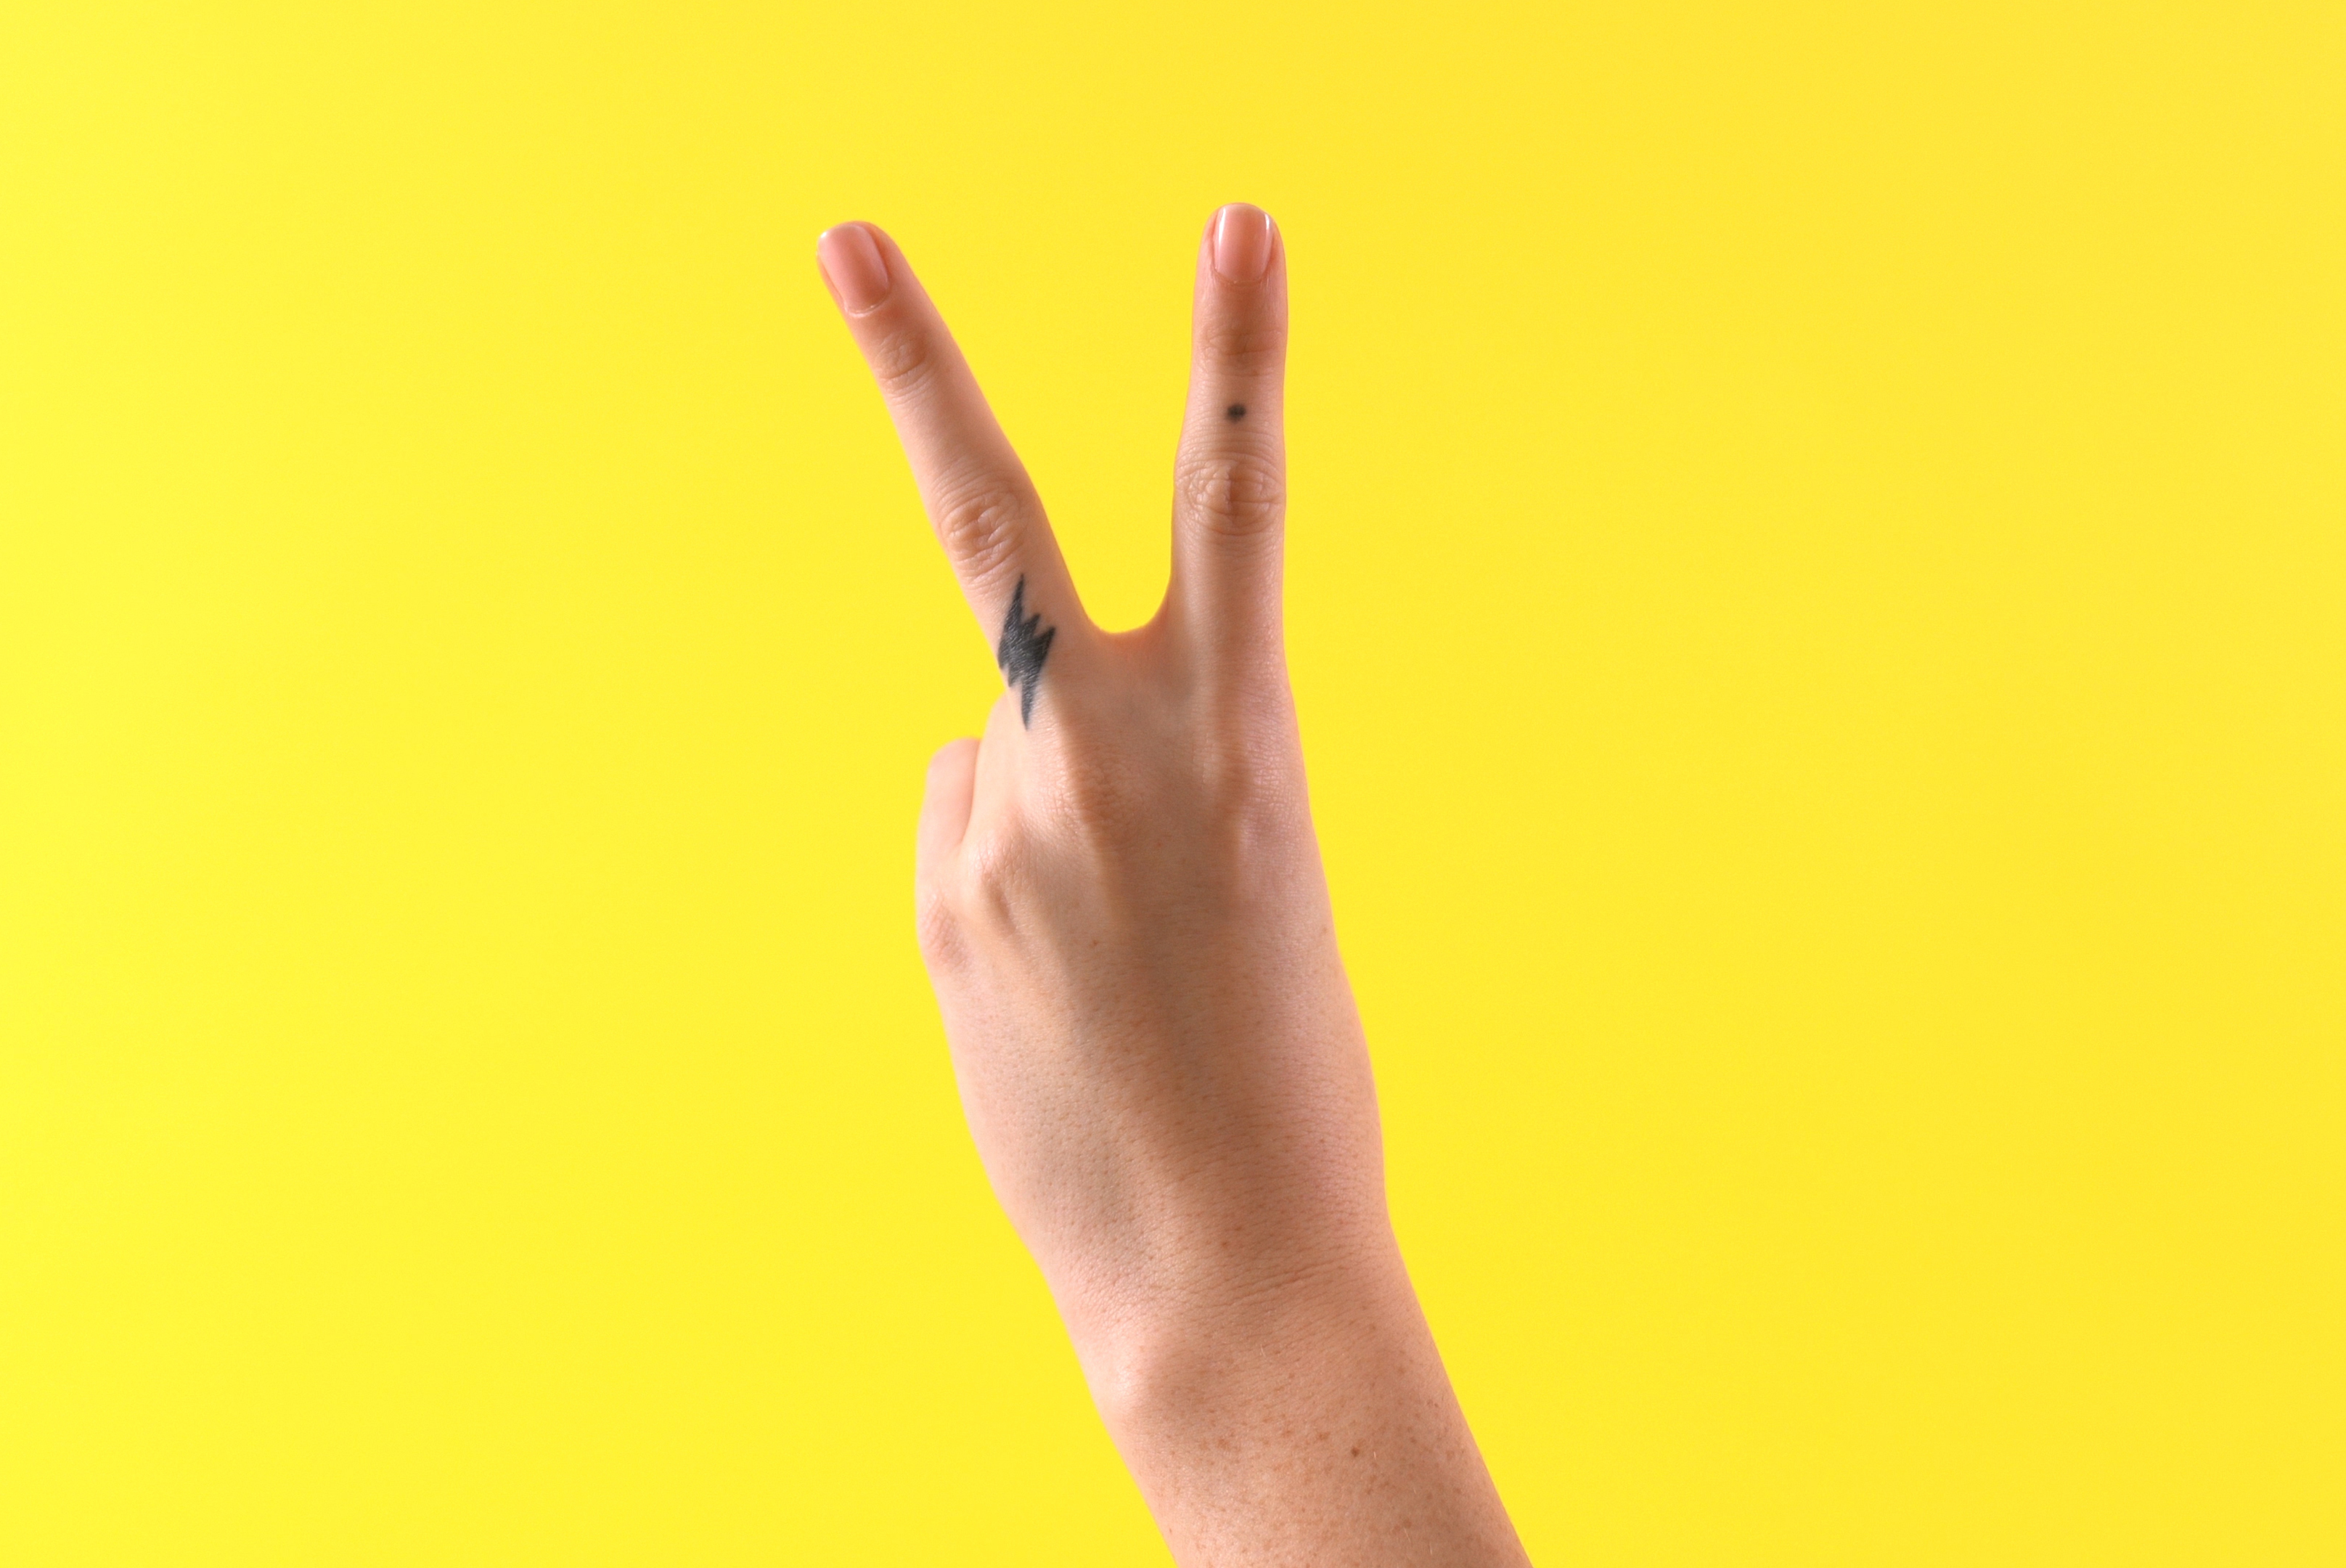v_s: (766, 156, 1464, 1386)
